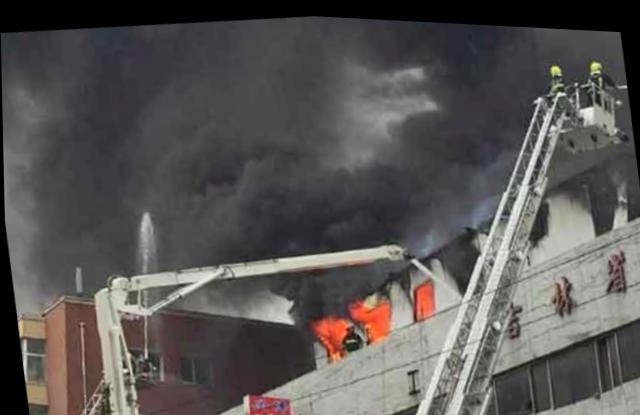fire: (311, 309, 343, 352), (352, 298, 389, 334), (410, 276, 436, 312)
